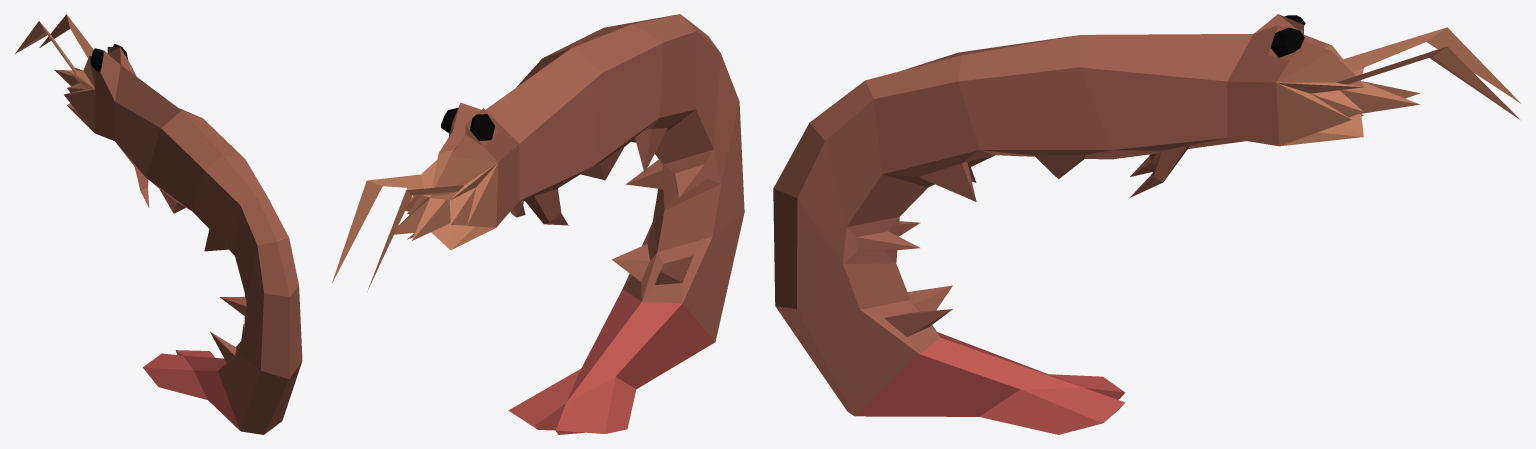
The model's file is ShrimpRaw.glb.
3 views of the same model, side by side, from view 1: azimuth 30°, elevation 25°; view 2: azimuth 150°, elevation 25°; view 3: azimuth 270°, elevation 25° (orthographic). The views are drawn at different scales.
Parts seen in each view (by area): view 1: EXPORT_shrimp; view 2: EXPORT_shrimp; view 3: EXPORT_shrimp.
Part boxes in pixels (x1,y1,x2,y2): EXPORT_shrimp: (15,14,302,434); EXPORT_shrimp: (332,14,744,434); EXPORT_shrimp: (773,14,1521,434).
Size of the model in its own units: 0.0385 by 0.1516 by 0.2608.
